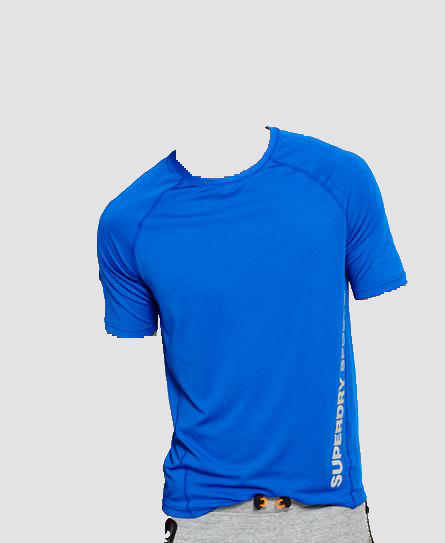teeshirt: (91, 126, 408, 518)
